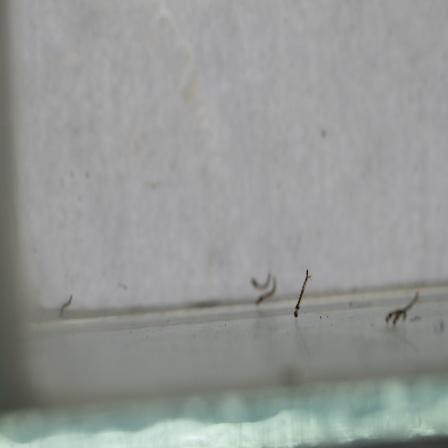Jentik-Nyamuk: (290, 266, 315, 320)
